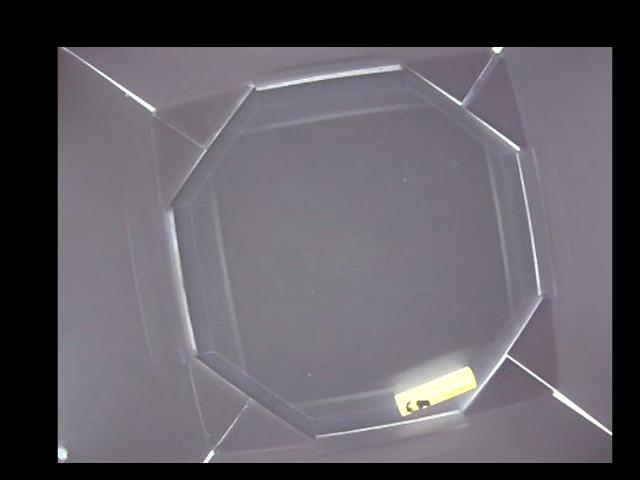Battery: (394, 365, 477, 416)
